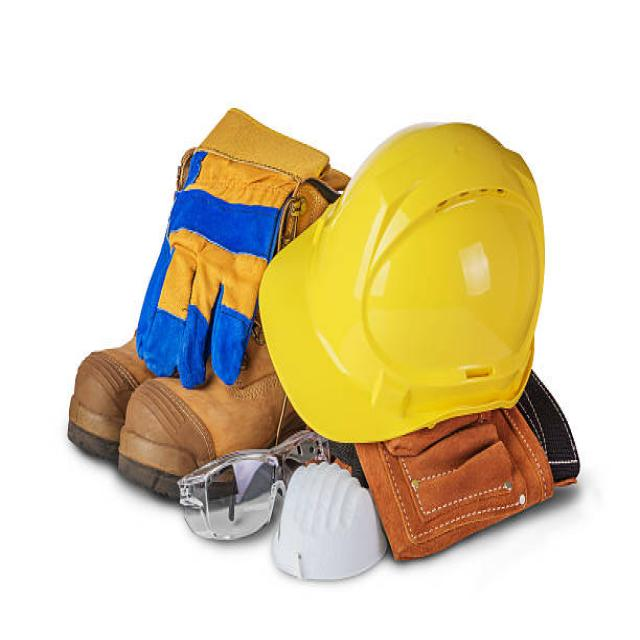Gloves: (133, 90, 341, 397)
helmet: (252, 116, 550, 449)
